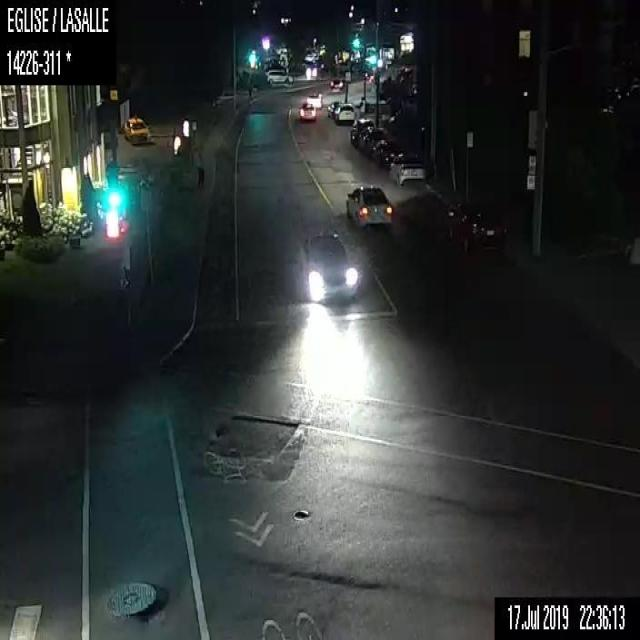pedestrian: (194, 138, 206, 190)
vehicle: (298, 230, 360, 302), (448, 201, 506, 255), (342, 182, 392, 234), (389, 149, 425, 187), (370, 137, 400, 166), (350, 116, 375, 148), (123, 115, 150, 144), (359, 125, 385, 155), (266, 68, 294, 86), (334, 101, 355, 122), (298, 101, 314, 121), (328, 73, 344, 92), (306, 91, 323, 108), (326, 99, 340, 118), (305, 64, 316, 77)
